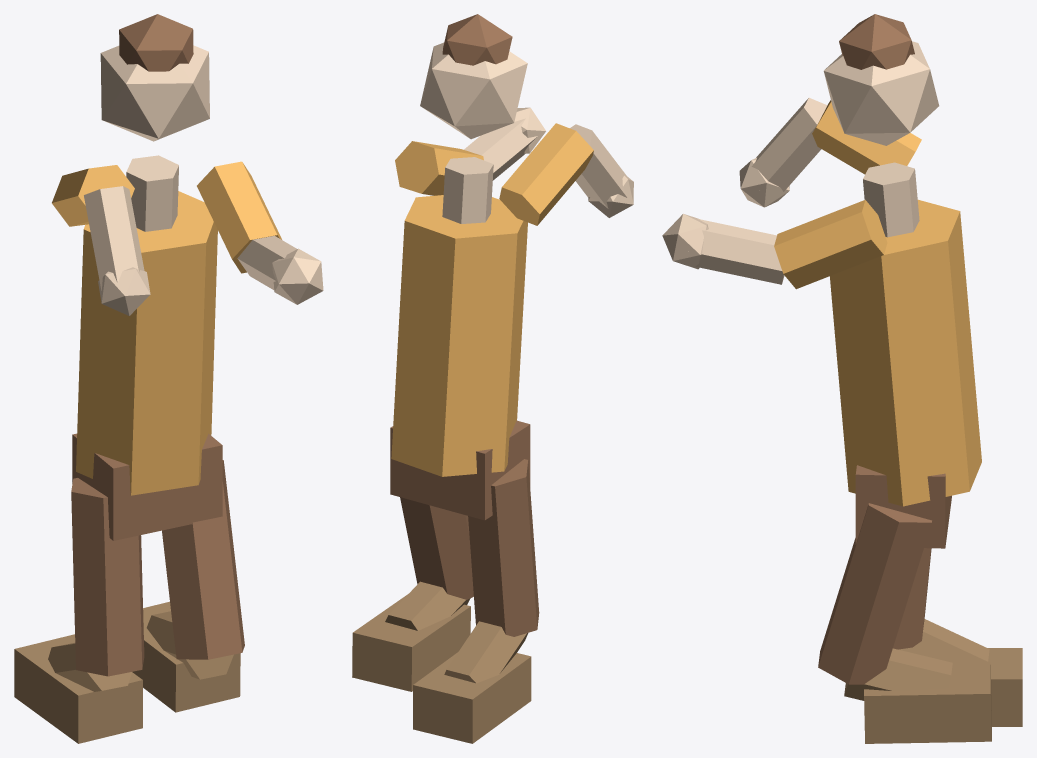
File: pose_attack_1_22.glb
3 renders of one model, left to right at view 1: azimuth 30°, elevation 25°; view 2: azimuth 150°, elevation 25°; view 3: azimuth 270°, elevation 25°, orthographic. The views are drawn at different scales.
Visible parts, largest first — view 1: pose; view 2: pose; view 3: pose.
Boxes of the visible parts, bbox=[...] form: pose: bbox=[14, 14, 323, 743]; pose: bbox=[352, 14, 633, 743]; pose: bbox=[662, 14, 1022, 743].
Bounding box in the file's own units: 0.4435 × 1.49 × 0.6824.
